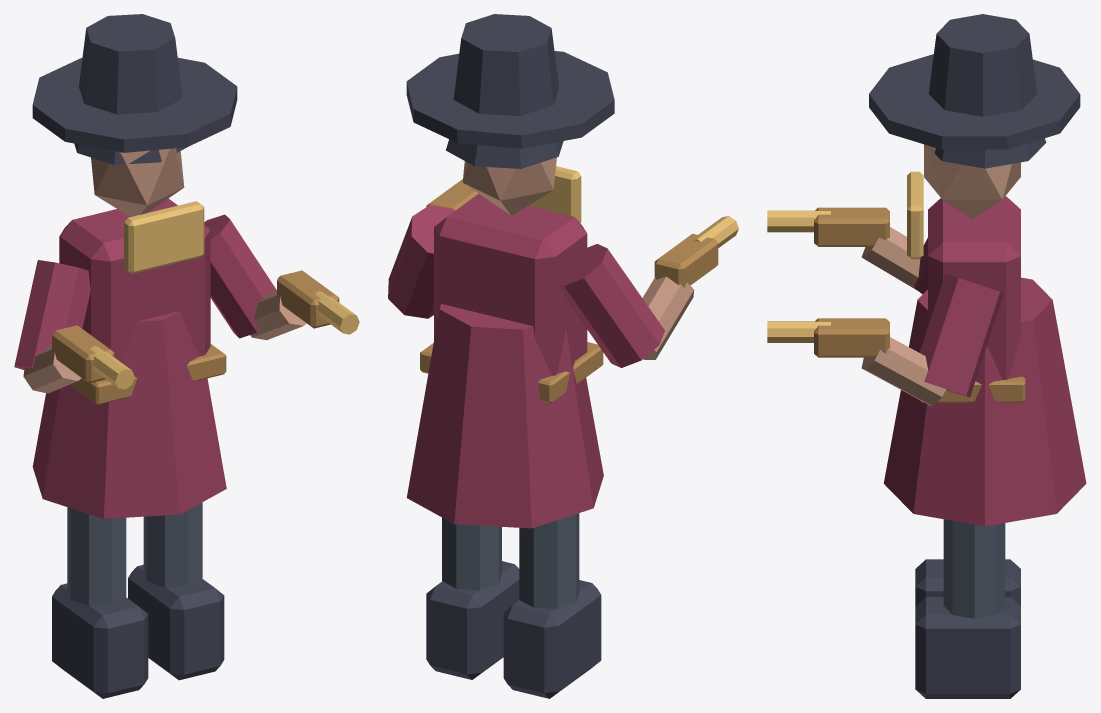
The model's file is lyra-faisca.fbx.
3 views of the same model, side by side, from view 1: azimuth 30°, elevation 25°; view 2: azimuth 150°, elevation 25°; view 3: azimuth 270°, elevation 25° (orthographic).
Parts seen in each view (by area): view 1: coat, torso, hat brim, hat crown, boot, boot.001, leg, sleeve.001, sleeve, scarf, head, leg.001 (+8 smaller); view 2: coat, torso, hat brim, hat crown, boot, boot.001, sleeve, leg, sleeve.001, leg.001, head, sidearm receiver (+6 smaller); view 3: coat, hat brim, torso, boot.001, hat crown, sleeve.001, leg.001, head, sidearm receiver.001, sidearm receiver, forearm.001, forearm (+6 smaller).
Boxes of the visible parts, x1=… form: coat: x1=32, y1=311, x2=226, y2=518; torso: x1=59, y1=198, x2=210, y2=362; hat brim: x1=32, y1=57, x2=237, y2=152; hat crown: x1=79, y1=14, x2=182, y2=114; boot: x1=52, y1=583, x2=148, y2=698; boot.001: x1=128, y1=564, x2=224, y2=680; leg: x1=67, y1=507, x2=126, y2=605; sleeve.001: x1=204, y1=214, x2=276, y2=338; sleeve: x1=14, y1=260, x2=90, y2=369; scarf: x1=124, y1=201, x2=204, y2=273; head: x1=91, y1=148, x2=184, y2=216; leg.001: x1=143, y1=502, x2=202, y2=587; coat: x1=406, y1=304, x2=603, y2=528; torso: x1=434, y1=193, x2=587, y2=375; hat brim: x1=406, y1=51, x2=614, y2=148; hat crown: x1=453, y1=14, x2=558, y2=115; boot: x1=503, y1=580, x2=601, y2=698; boot.001: x1=426, y1=561, x2=519, y2=679; sleeve: x1=559, y1=244, x2=664, y2=367; leg: x1=519, y1=513, x2=579, y2=608; sleeve.001: x1=388, y1=205, x2=454, y2=318; leg.001: x1=442, y1=517, x2=501, y2=590; head: x1=462, y1=157, x2=556, y2=215; sidearm receiver: x1=654, y1=233, x2=718, y2=287; coat: x1=883, y1=277, x2=1086, y2=526; hat brim: x1=869, y1=54, x2=1080, y2=149; torso: x1=928, y1=196, x2=1020, y2=379; boot.001: x1=915, y1=597, x2=1020, y2=698; hat crown: x1=928, y1=14, x2=1037, y2=116; sleeve.001: x1=919, y1=274, x2=1003, y2=397; leg.001: x1=943, y1=519, x2=1005, y2=618; head: x1=924, y1=144, x2=1020, y2=218; sidearm receiver.001: x1=814, y1=318, x2=889, y2=357; sidearm receiver: x1=814, y1=207, x2=889, y2=246; forearm.001: x1=861, y1=337, x2=945, y2=406; forearm: x1=861, y1=227, x2=920, y2=290.
Size of the model in its own units: 73.53 by 167 by 75.5.
